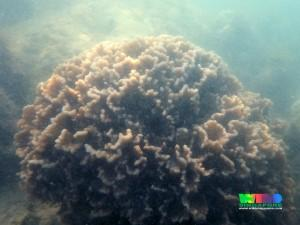bleached_corals: (15, 36, 294, 225)
